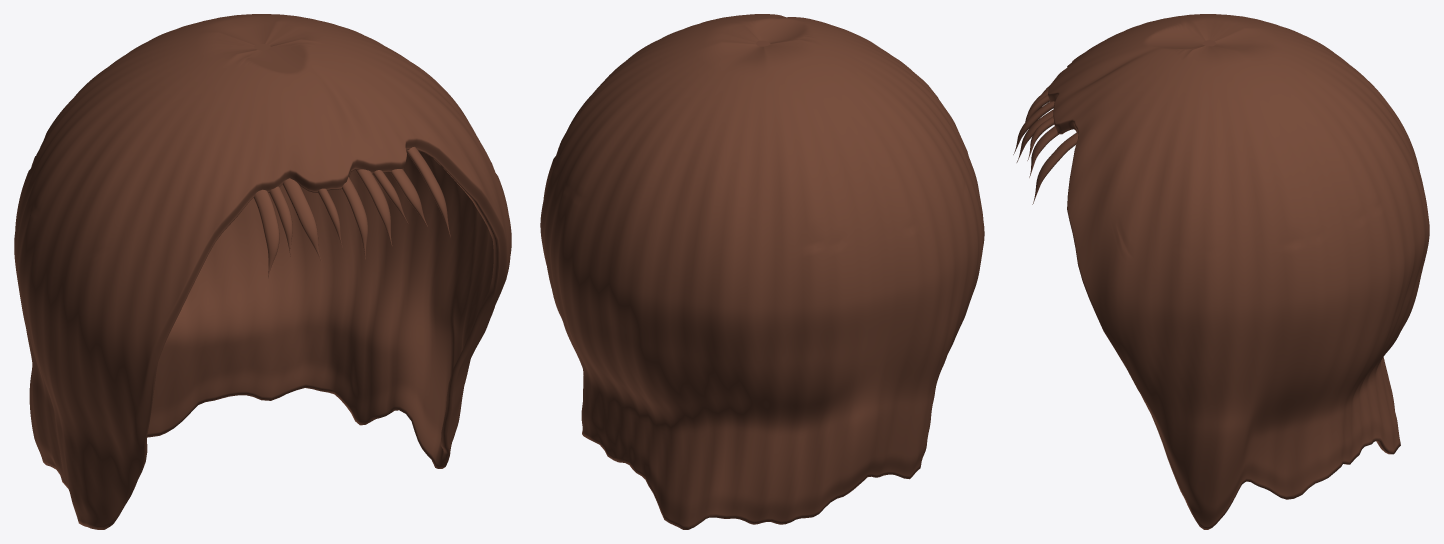
Rendered from side-sweep-cowboy.glb.
The picture shows the model from 3 angles, left to right: view 1: azimuth 30°, elevation 25°; view 2: azimuth 150°, elevation 25°; view 3: azimuth 270°, elevation 25°; orthographic projection. The views are drawn at different scales.
Visible parts, largest first — view 1: Hair / layered lob, Fringe / tapered lock 01, Fringe / tapered lock 03, Fringe / tapered lock 09, Fringe / tapered lock 06, Fringe / tapered lock 05, Fringe / tapered lock 02, Fringe / tapered lock 08; view 2: Hair / layered lob; view 3: Hair / layered lob, Fringe / tapered lock 09.
Part boxes in pixels (x1=…): Hair / layered lob: x1=14, y1=14, x2=511, y2=529; Fringe / tapered lock 01: x1=253, y1=189, x2=279, y2=278; Fringe / tapered lock 03: x1=282, y1=178, x2=321, y2=261; Fringe / tapered lock 09: x1=406, y1=147, x2=450, y2=237; Fringe / tapered lock 06: x1=355, y1=169, x2=392, y2=245; Fringe / tapered lock 05: x1=342, y1=177, x2=367, y2=259; Fringe / tapered lock 02: x1=269, y1=186, x2=292, y2=257; Fringe / tapered lock 08: x1=391, y1=169, x2=427, y2=226; Hair / layered lob: x1=540, y1=14, x2=984, y2=529; Hair / layered lob: x1=1048, y1=14, x2=1429, y2=529; Fringe / tapered lock 09: x1=1032, y1=132, x2=1078, y2=204.
Bounding box in the file's own units: 0.8388 × 0.8737 × 0.7904.
